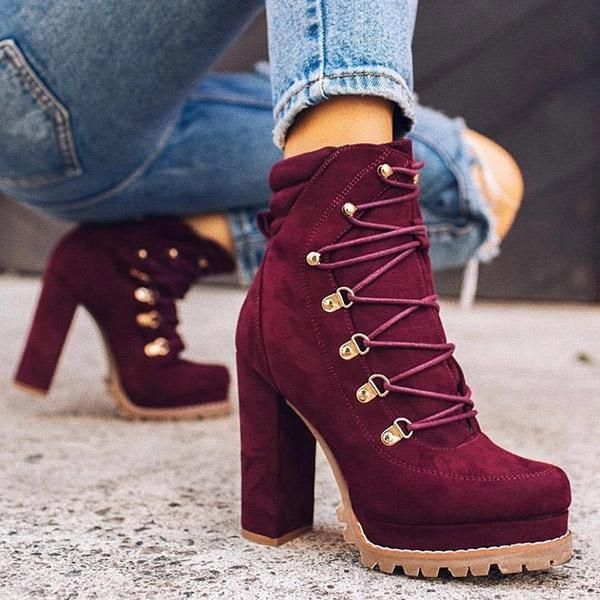gamuza: (235, 139, 571, 551)
